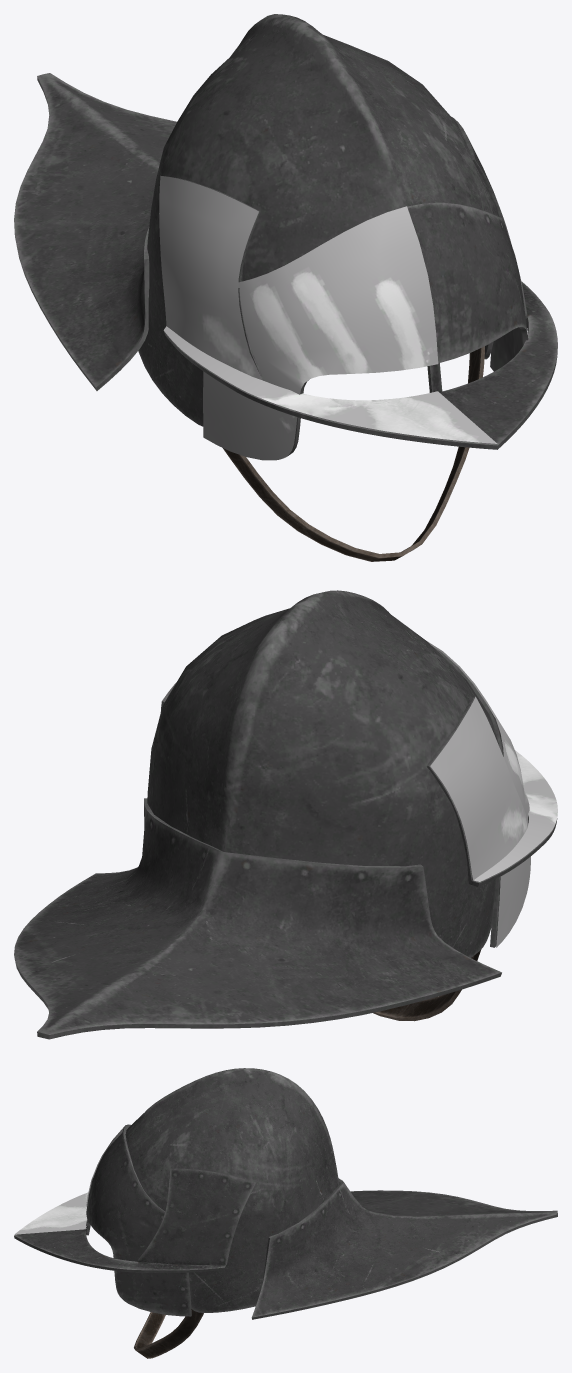
File: sk_uruk_hai_helmet_sapper_a3.fbx
The picture shows the model from 3 angles, top to bottom: view 1: azimuth 30°, elevation 25°; view 2: azimuth 150°, elevation 25°; view 3: azimuth 270°, elevation 25°; orthographic projection. The views are drawn at different scales.
Visible parts, largest first — view 1: sk_uruk_hai_helmet_sapper_a3.2, sk_uruk_hai_helmet_sapper_a3.0, sk_uruk_hai_helmet_sapper_a3.1; view 2: sk_uruk_hai_helmet_sapper_a3.2, sk_uruk_hai_helmet_sapper_a3.0, sk_uruk_hai_helmet_sapper_a3.1; view 3: sk_uruk_hai_helmet_sapper_a3.2, sk_uruk_hai_helmet_sapper_a3.0, sk_uruk_hai_helmet_sapper_a3.1.
Boxes of the visible parts, box(x1,y1,x2,y2) form: sk_uruk_hai_helmet_sapper_a3.2: box(14, 14, 557, 457); sk_uruk_hai_helmet_sapper_a3.0: box(159, 175, 497, 460); sk_uruk_hai_helmet_sapper_a3.1: box(223, 346, 484, 561); sk_uruk_hai_helmet_sapper_a3.2: box(14, 590, 557, 1039); sk_uruk_hai_helmet_sapper_a3.0: box(427, 641, 557, 947); sk_uruk_hai_helmet_sapper_a3.1: box(373, 950, 480, 1021); sk_uruk_hai_helmet_sapper_a3.2: box(14, 1068, 557, 1319); sk_uruk_hai_helmet_sapper_a3.0: box(14, 1124, 130, 1234); sk_uruk_hai_helmet_sapper_a3.1: box(134, 1309, 203, 1358).
Bounding box in the file's own units: 0.2811 × 0.5447 × 0.3151.
3 materials, 3 textured.
